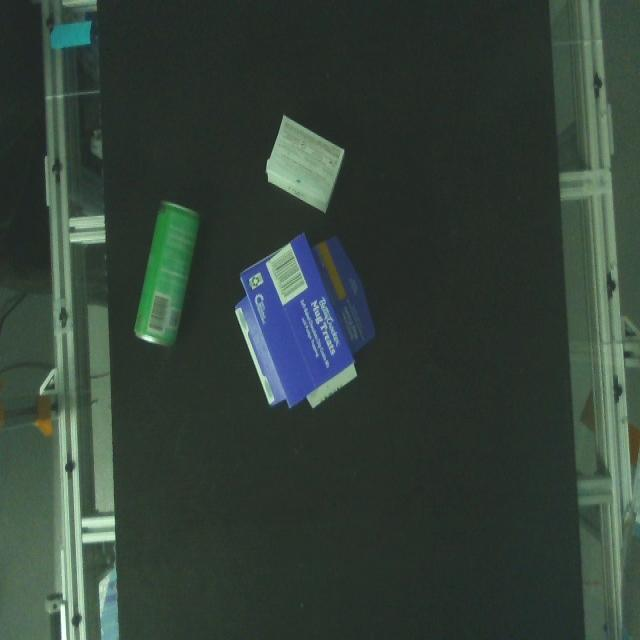non-paper: (132, 182, 217, 356)
paper: (230, 234, 388, 418), (264, 104, 353, 212), (384, 420, 385, 421)
